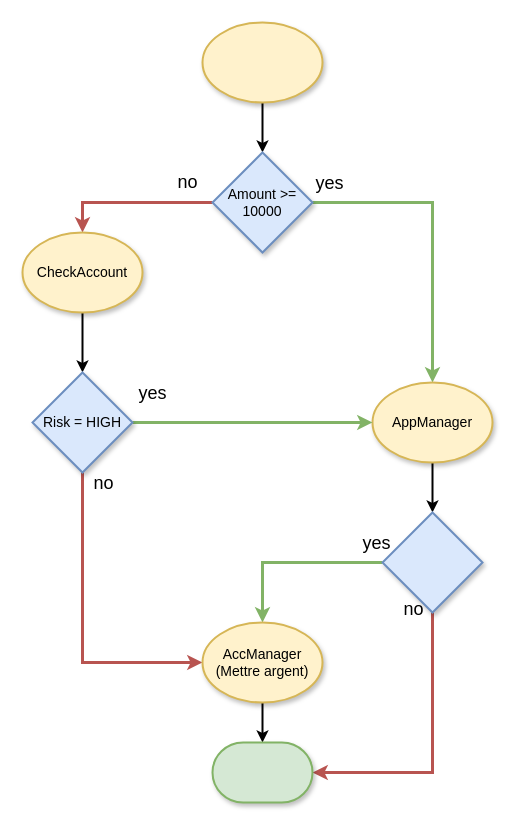
The diagram is 516 pixels wide and 827 high, and some of its shapes have lost their labels. Each missing label, with the centre of its shape:
"LoanApproval" belongs at [263,63].
"Ok" belongs at [433,563].
"Reponse" belongs at [263,773].
